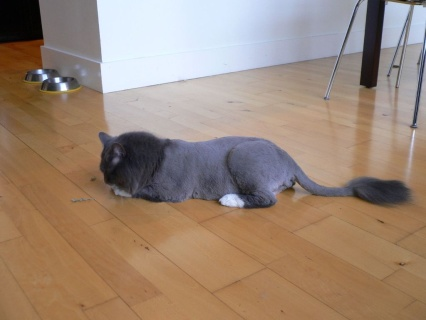Cat: (95, 126, 414, 212)
